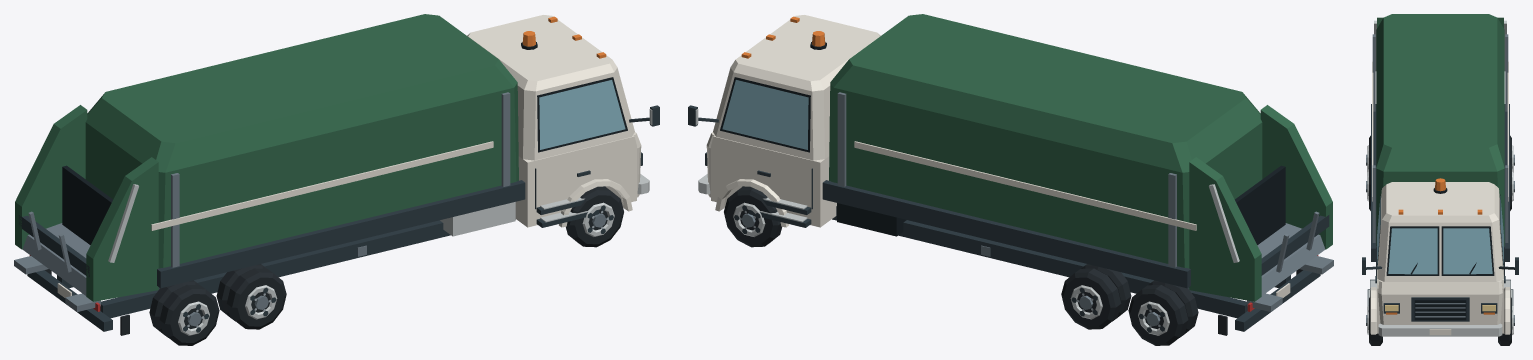
Rendered from b15_rear_loader_refuse_truck.glb.
The picture shows the model from 3 angles, left to right: view 1: azimuth 30°, elevation 25°; view 2: azimuth 150°, elevation 25°; view 3: azimuth 270°, elevation 25°; orthographic projection. The views are drawn at different scales.
Parts seen in each view (by area): view 1: b15_rear_loader_refuse_truck; view 2: b15_rear_loader_refuse_truck; view 3: b15_rear_loader_refuse_truck.
Part boxes in pixels (x1,y1,x2,y2): b15_rear_loader_refuse_truck: [14, 14, 659, 345]; b15_rear_loader_refuse_truck: [688, 14, 1333, 345]; b15_rear_loader_refuse_truck: [1362, 14, 1518, 345].
Size of the model in its own units: 10.02 by 3.35 by 2.94.
